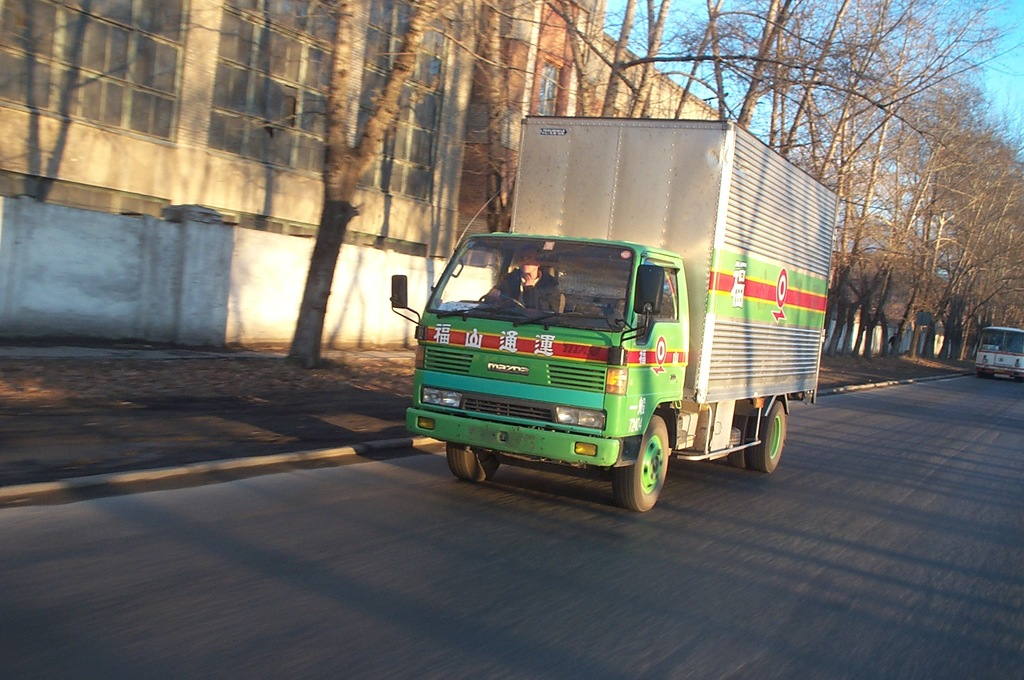truck: (380, 111, 861, 519), (965, 315, 1024, 382)
